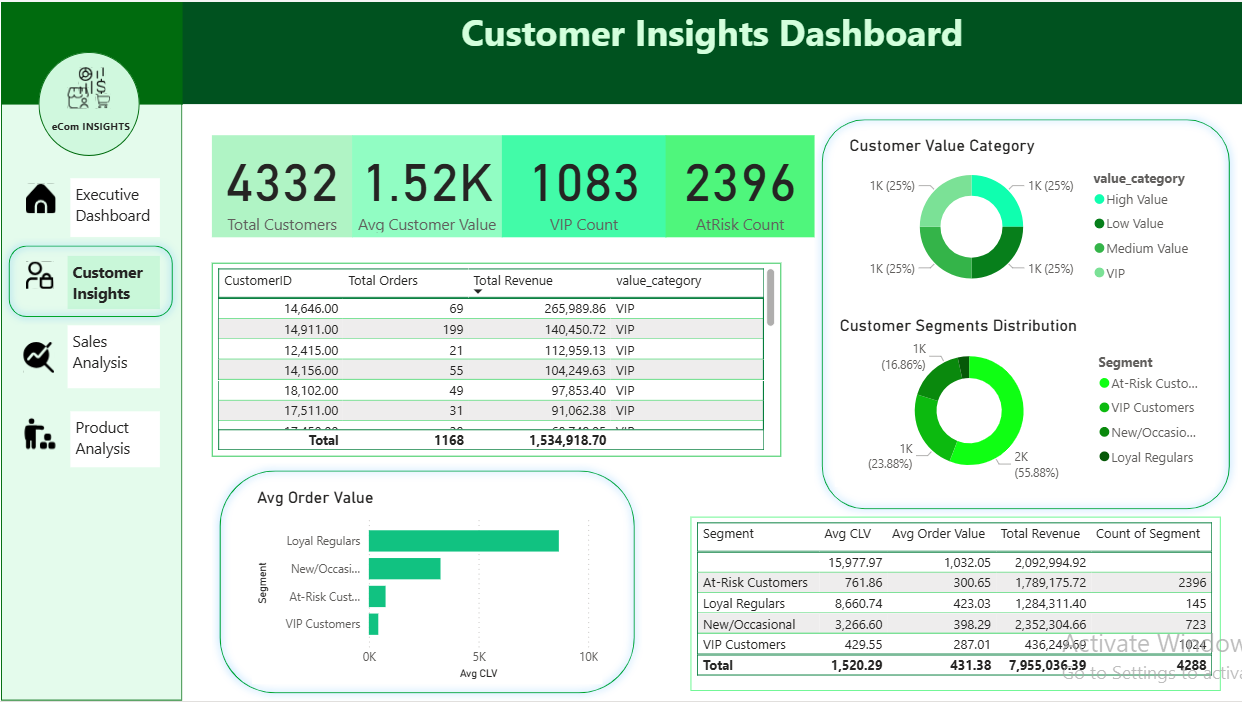

This screenshot's page, from the dashboard's own definition file:
{"tool":"powerbi","page":{"name":"Page 2","canvas":[1280,720],"ordinal":1},"visuals":[{"type":"shape","box":[838.3,112.7,436.5,417.7],"z":0},{"type":"shape","box":[216.8,474.1,443.7,245.7],"z":1000},{"type":"shape","box":[0,0,186.9,720],"z":2000},{"type":"textbox","box":[186.4,0,1094.1,105.5],"z":3000},{"type":"actionButton","box":[21.2,182.5,48.8,38.8],"z":4000},{"type":"actionButton","box":[21.2,261.2,36.2,40],"z":5000},{"type":"actionButton","box":[18,338,40,58],"z":6000},{"type":"actionButton","box":[18.8,422.5,42.5,46.2],"z":7000},{"type":"textbox","box":[70.8,182.1,92.5,60.7],"z":8000},{"type":"textbox","box":[68.8,261.2,95,55],"z":9000},{"type":"textbox","box":[68.8,332.5,95,65],"z":10000},{"type":"textbox","box":[70.8,422,92.5,57.8],"z":11000},{"type":"card","fields":{"Values":["public transactions.Total Customers"]},"box":[216.8,137.3,144.5,105.5],"z":12000},{"type":"card","fields":{"Values":["public clv_predictions.Avg Customer Value"]},"box":[361.3,137.3,154.7,105.5],"z":13000},{"type":"card","fields":{"Values":["public clv_predictions.VIP Count"]},"box":[516,137.3,169.1,105.5],"z":14000},{"type":"card","fields":{"Values":["public clv_predictions.AtRisk Count"]},"box":[685.1,137.3,153.2,105.5],"z":15000},{"type":"donutChart","title":"Customer Segments Distribution","fields":{"Category":["public customer_segments.Segment"],"Y":["public transactions.Total Customers"]},"box":[860,323.8,391.7,176.3],"z":16000},{"type":"donutChart","title":"Customer Value Category","fields":{"Category":["public clv_predictions.value_category"],"Y":["public transactions.Total Customers"]},"box":[870.1,137.3,371.4,169.1],"z":17000},{"type":"tableEx","fields":{"Values":["public customer_segments.Segment","public clv_predictions.Avg CLV","public transactions.Avg Order Value","public transactions.Total Revenue","CountNonNull(public customer_segments.Segment)"]},"box":[711.1,530.4,546.3,179.2],"z":18000},{"type":"tableEx","fields":{"Values":["public transactions.CustomerID","public transactions.Total Orders","public transactions.Total Revenue","public clv_predictions.value_category"]},"box":[216.8,268.8,586.8,199.5],"z":19000},{"type":"clusteredBarChart","title":"Avg Order Value","fields":{"Category":["public customer_segments.Segment"],"Y":["public clv_predictions.Avg CLV"]},"box":[258.7,500.1,361.3,202.3],"z":20000},{"type":"shape","box":[0,0,187.1,105.7],"z":21000},{"type":"shape","box":[38.6,51.4,104.3,107.1],"z":22000},{"type":"actionButton","box":[64,81.2,29.6,34.4],"z":23000},{"type":"actionButton","box":[93.6,89.6,40.8,23.2],"z":24000},{"type":"actionButton","box":[75.2,62.4,77.6,36],"z":25000},{"type":"textbox","box":[46.9,112.3,139.2,30],"z":26000},{"type":"shape","box":[0,242.8,185,89.6],"z":27000}]}

Visuals, with their boxes on the page's 1280x720 design canvas (x1, y1, x2, y2). These are canvas units, not pixel positions in the 1242x702 screenshot, which may show the page scaled, cropped or inside an application window:
shape: <bbox>838, 113, 1275, 530</bbox>
shape: <bbox>217, 474, 660, 720</bbox>
shape: <bbox>0, 0, 187, 720</bbox>
textbox: <bbox>186, 0, 1280, 106</bbox>
actionButton: <bbox>21, 182, 70, 221</bbox>
actionButton: <bbox>21, 261, 57, 301</bbox>
actionButton: <bbox>18, 338, 58, 396</bbox>
actionButton: <bbox>19, 422, 61, 469</bbox>
textbox: <bbox>71, 182, 163, 243</bbox>
textbox: <bbox>69, 261, 164, 316</bbox>
textbox: <bbox>69, 332, 164, 398</bbox>
textbox: <bbox>71, 422, 163, 480</bbox>
card - public transactions.Total Customers: <bbox>217, 137, 361, 243</bbox>
card - public clv_predictions.Avg Customer Value: <bbox>361, 137, 516, 243</bbox>
card - public clv_predictions.VIP Count: <bbox>516, 137, 685, 243</bbox>
card - public clv_predictions.AtRisk Count: <bbox>685, 137, 838, 243</bbox>
"Customer Segments Distribution" donutChart: <bbox>860, 324, 1252, 500</bbox>
"Customer Value Category" donutChart: <bbox>870, 137, 1242, 306</bbox>
tableEx - public customer_segments.Segment x public clv_predictions.Avg CLV: <bbox>711, 530, 1257, 710</bbox>
tableEx - public transactions.CustomerID x public transactions.Total Orders: <bbox>217, 269, 804, 468</bbox>
"Avg Order Value" clusteredBarChart: <bbox>259, 500, 620, 702</bbox>
shape: <bbox>0, 0, 187, 106</bbox>
shape: <bbox>39, 51, 143, 158</bbox>
actionButton: <bbox>64, 81, 94, 116</bbox>
actionButton: <bbox>94, 90, 134, 113</bbox>
actionButton: <bbox>75, 62, 153, 98</bbox>
textbox: <bbox>47, 112, 186, 142</bbox>
shape: <bbox>0, 243, 185, 332</bbox>
